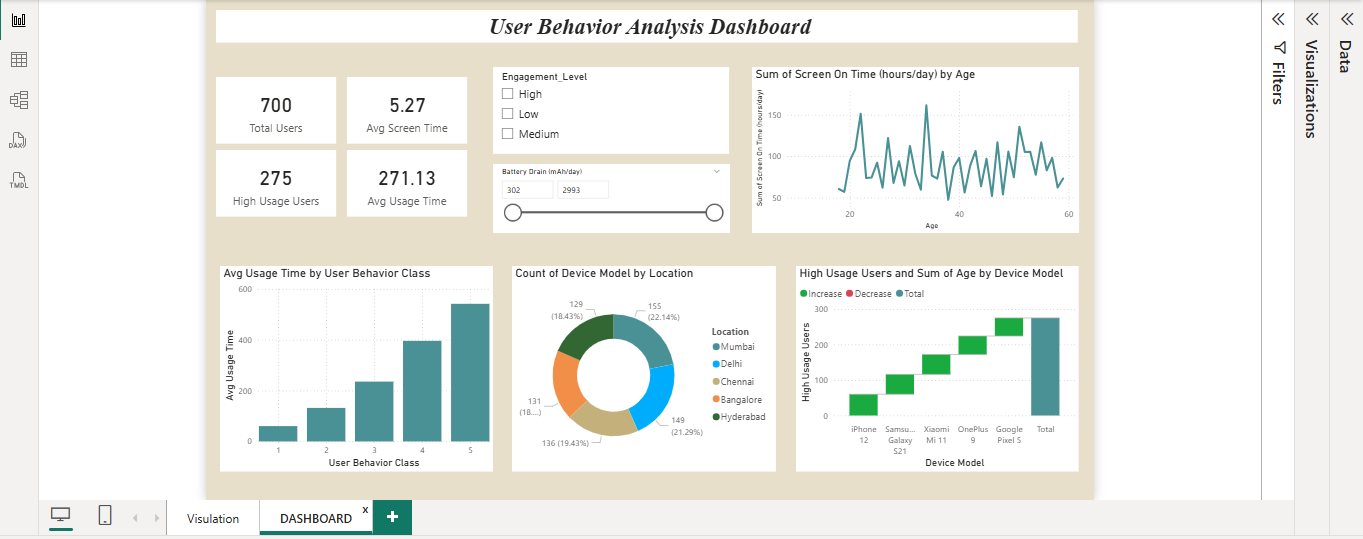

The page's visual inventory and layout, read from the dashboard file:
{"tool":"powerbi","page":{"name":"DASHBOARD","canvas":[1280,720],"ordinal":1},"visuals":[{"type":"columnChart","fields":{"Category":["Raw data.User Behavior Class"],"Y":["Raw data.Avg Usage Time"]},"box":[20.2,383,393.1,295.6],"z":0},{"type":"lineChart","fields":{"Category":["Raw data.Age"],"Y":["Sum(Raw data.Screen On Time (hours/day))"]},"box":[786.2,96.5,470.9,239],"z":1000},{"type":"donutChart","fields":{"Category":["Raw data.Location"],"Y":["CountNonNull(Raw data.Device Model)"]},"box":[440.1,383,379.6,295.6],"z":2000},{"type":"waterfallChart","fields":{"Y":["Raw data.High Usage Users"],"Category":["Raw data.Device Model"]},"box":[850,383,406.5,295.6],"z":3000},{"type":"textbox","box":[15.1,15.1,1241.4,47],"z":9000},{"type":"card","fields":{"Values":["Raw data.Total Users"]},"box":[14.4,110.9,172.8,96.5],"z":9001},{"type":"card","fields":{"Values":["Raw data.Avg Screen Time"]},"box":[203,110.9,172.8,96.5],"z":9003},{"type":"slicer","fields":{"Values":["Raw data.Engagement_Level"]},"box":[413.3,96.5,339.8,125.3],"z":9005},{"type":"slicer","fields":{"Values":["Raw data.Battery Drain (mAh/day)"]},"box":[413.3,236.2,339.8,99.4],"z":9006},{"type":"card","fields":{"Values":["Raw data.High Usage Users"]},"box":[14.4,216,172.8,96.5],"z":9007},{"type":"card","fields":{"Values":["Raw data.Avg Usage Time"]},"box":[203,216,172.8,96.5],"z":9008}]}

Visuals, with their boxes on the page's 1280x720 design canvas (x1, y1, x2, y2). These are canvas units, not pixel positions in the 1363x539 screenshot, which may show the page scaled, cropped or inside an application window:
columnChart - Raw data.User Behavior Class x Raw data.Avg Usage Time: box(20, 383, 413, 679)
lineChart - Raw data.Age x Sum(Raw data.Screen On Time (hours/day)): box(786, 96, 1257, 336)
donutChart - Raw data.Location x CountNonNull(Raw data.Device Model): box(440, 383, 820, 679)
waterfallChart - Raw data.High Usage Users x Raw data.Device Model: box(850, 383, 1256, 679)
textbox: box(15, 15, 1256, 62)
card - Raw data.Total Users: box(14, 111, 187, 207)
card - Raw data.Avg Screen Time: box(203, 111, 376, 207)
slicer - Raw data.Engagement_Level: box(413, 96, 753, 222)
slicer - Raw data.Battery Drain (mAh/day): box(413, 236, 753, 336)
card - Raw data.High Usage Users: box(14, 216, 187, 312)
card - Raw data.Avg Usage Time: box(203, 216, 376, 312)
